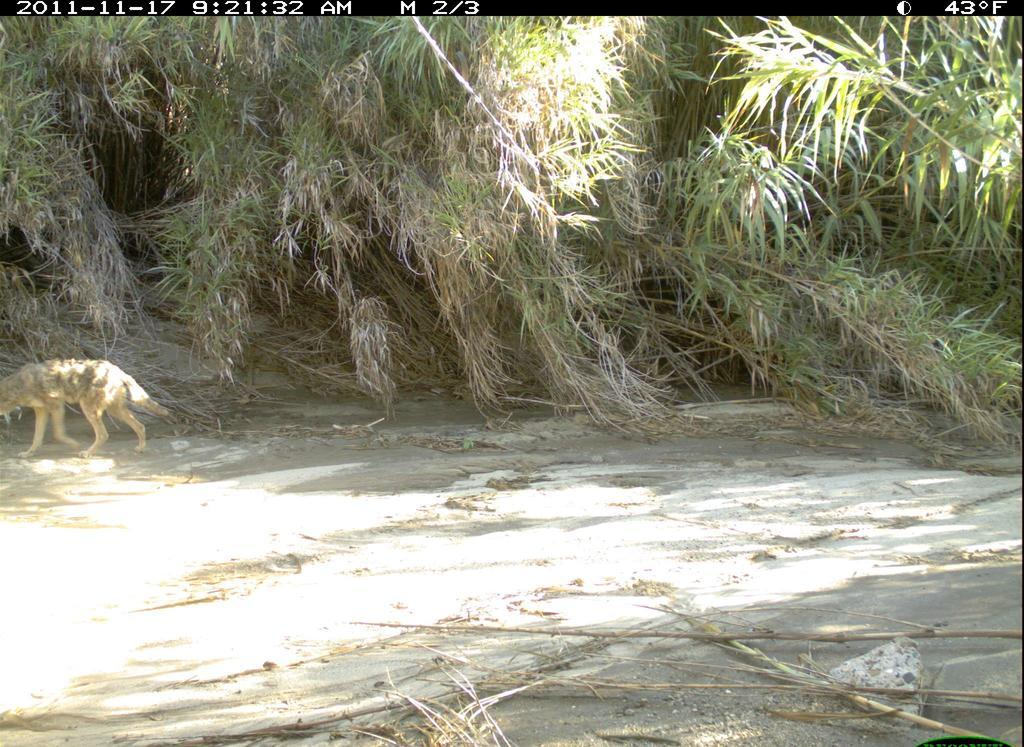coyote: (1, 346, 182, 472)
